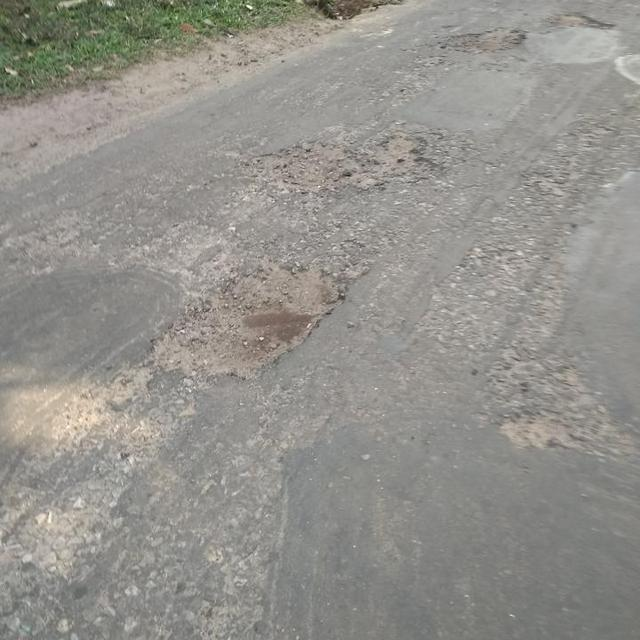Pothole: (141, 255, 351, 384), (238, 132, 443, 194), (435, 23, 527, 57), (549, 9, 615, 34)
